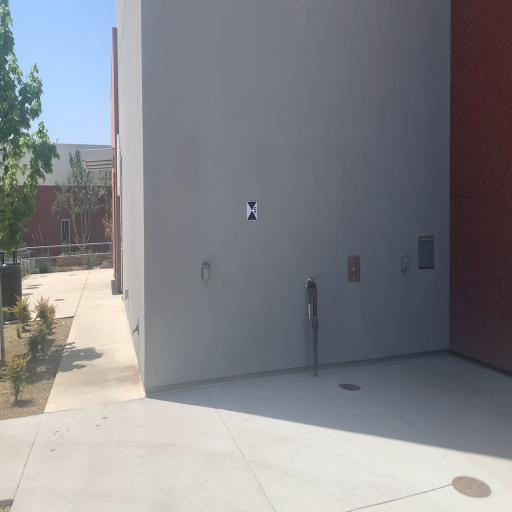target5: (247, 201, 257, 222)
